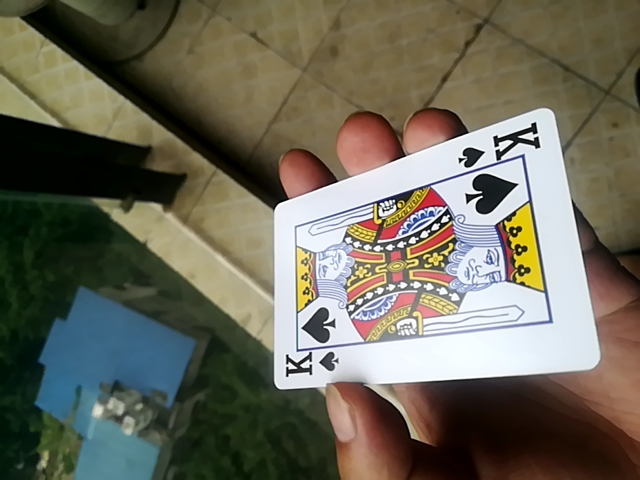ht k: (266, 104, 595, 401)
